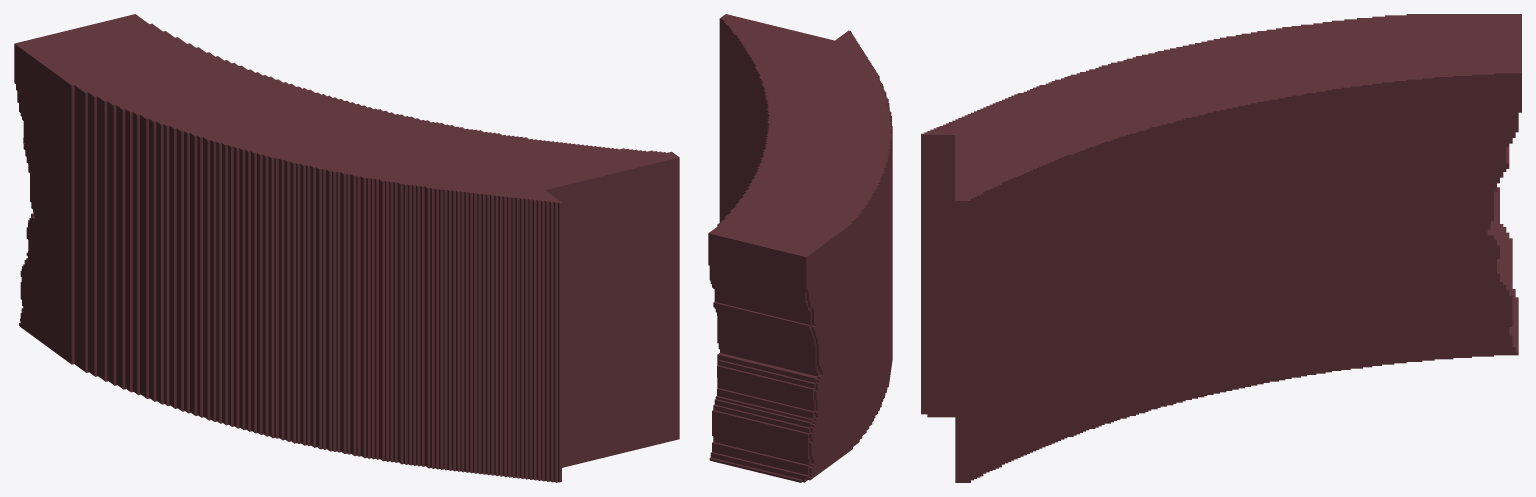
The model's file is base_with_flag_elements-4.obj.
3 views of the same model, side by side, from view 1: azimuth 30°, elevation 25°; view 2: azimuth 150°, elevation 25°; view 3: azimuth 270°, elevation 25° (orthographic). The views are drawn at different scales.
Bounding box in the file's own units: 14.2 × 10 × 19.3.
Materials: 1 (1 with a texture image).
